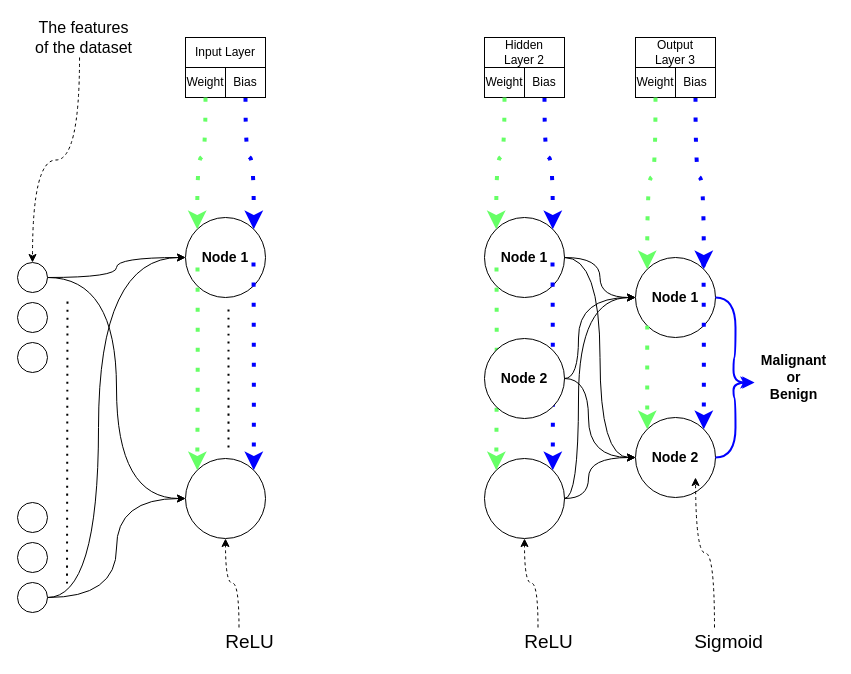
The diagram is 851 pixels wide and 674 high, and some of its shapes have lost their labels. Each missing label, with the centre of its shape:
"Node 3" goes at [524,498].
"Node 30" goes at [225,498].
